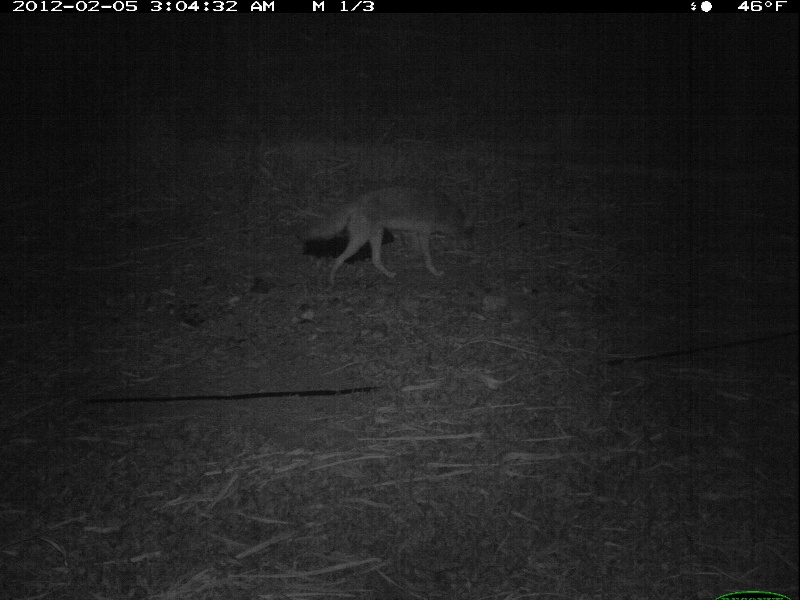coyote: (298, 180, 471, 287)
